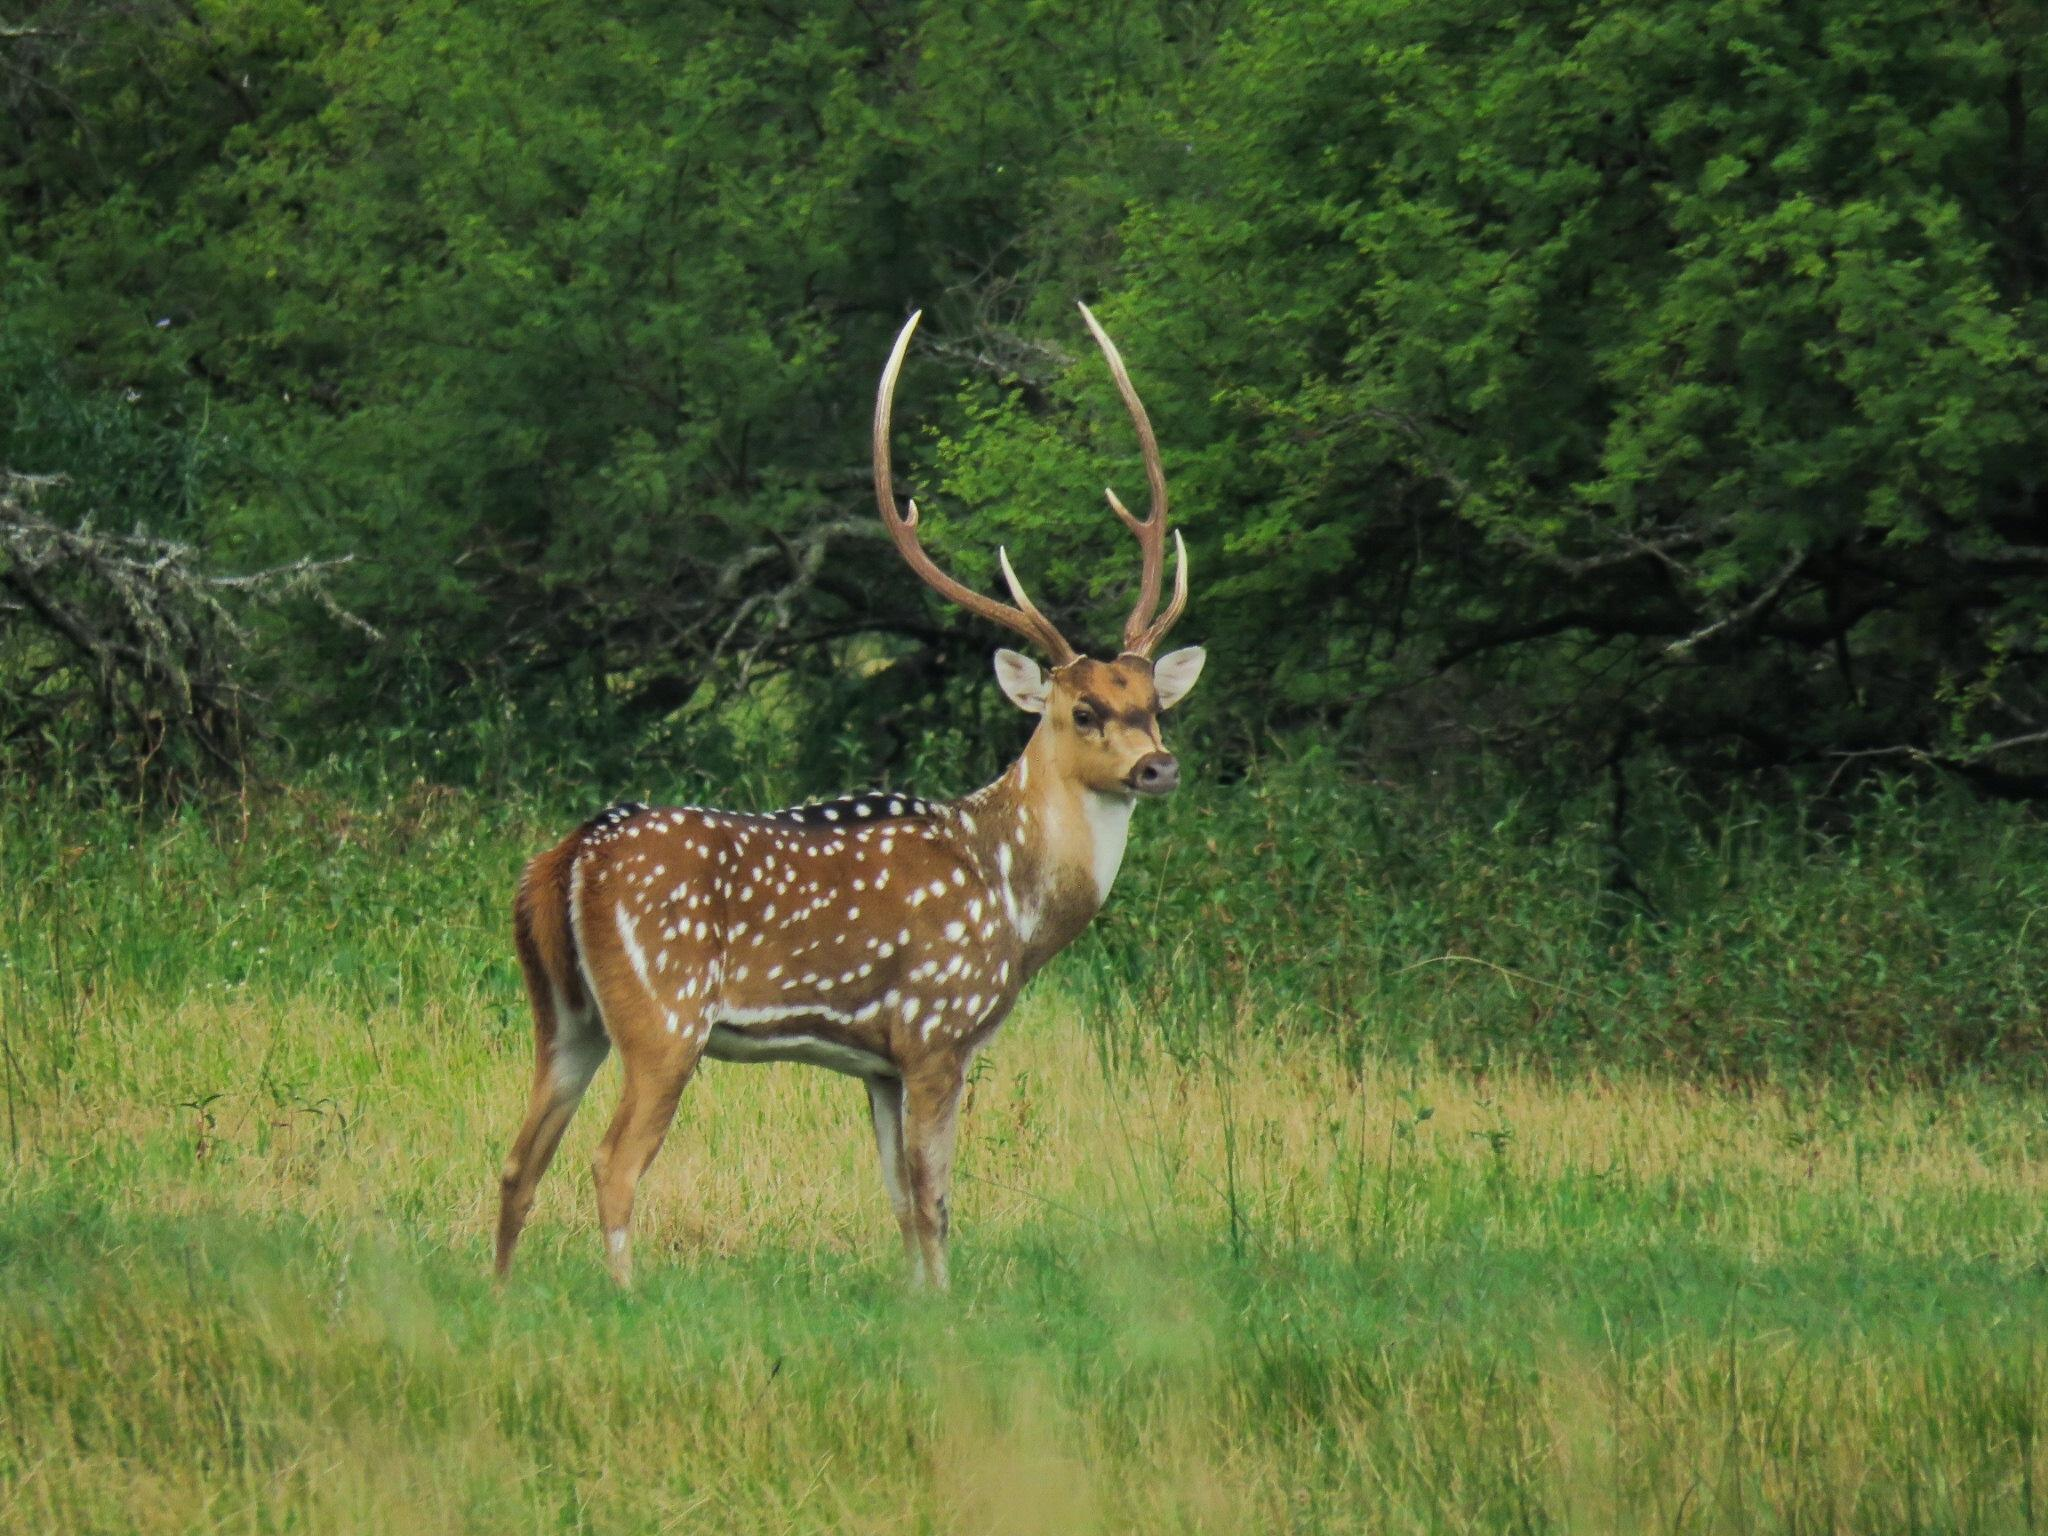Deer: (493, 311, 1205, 1288)
